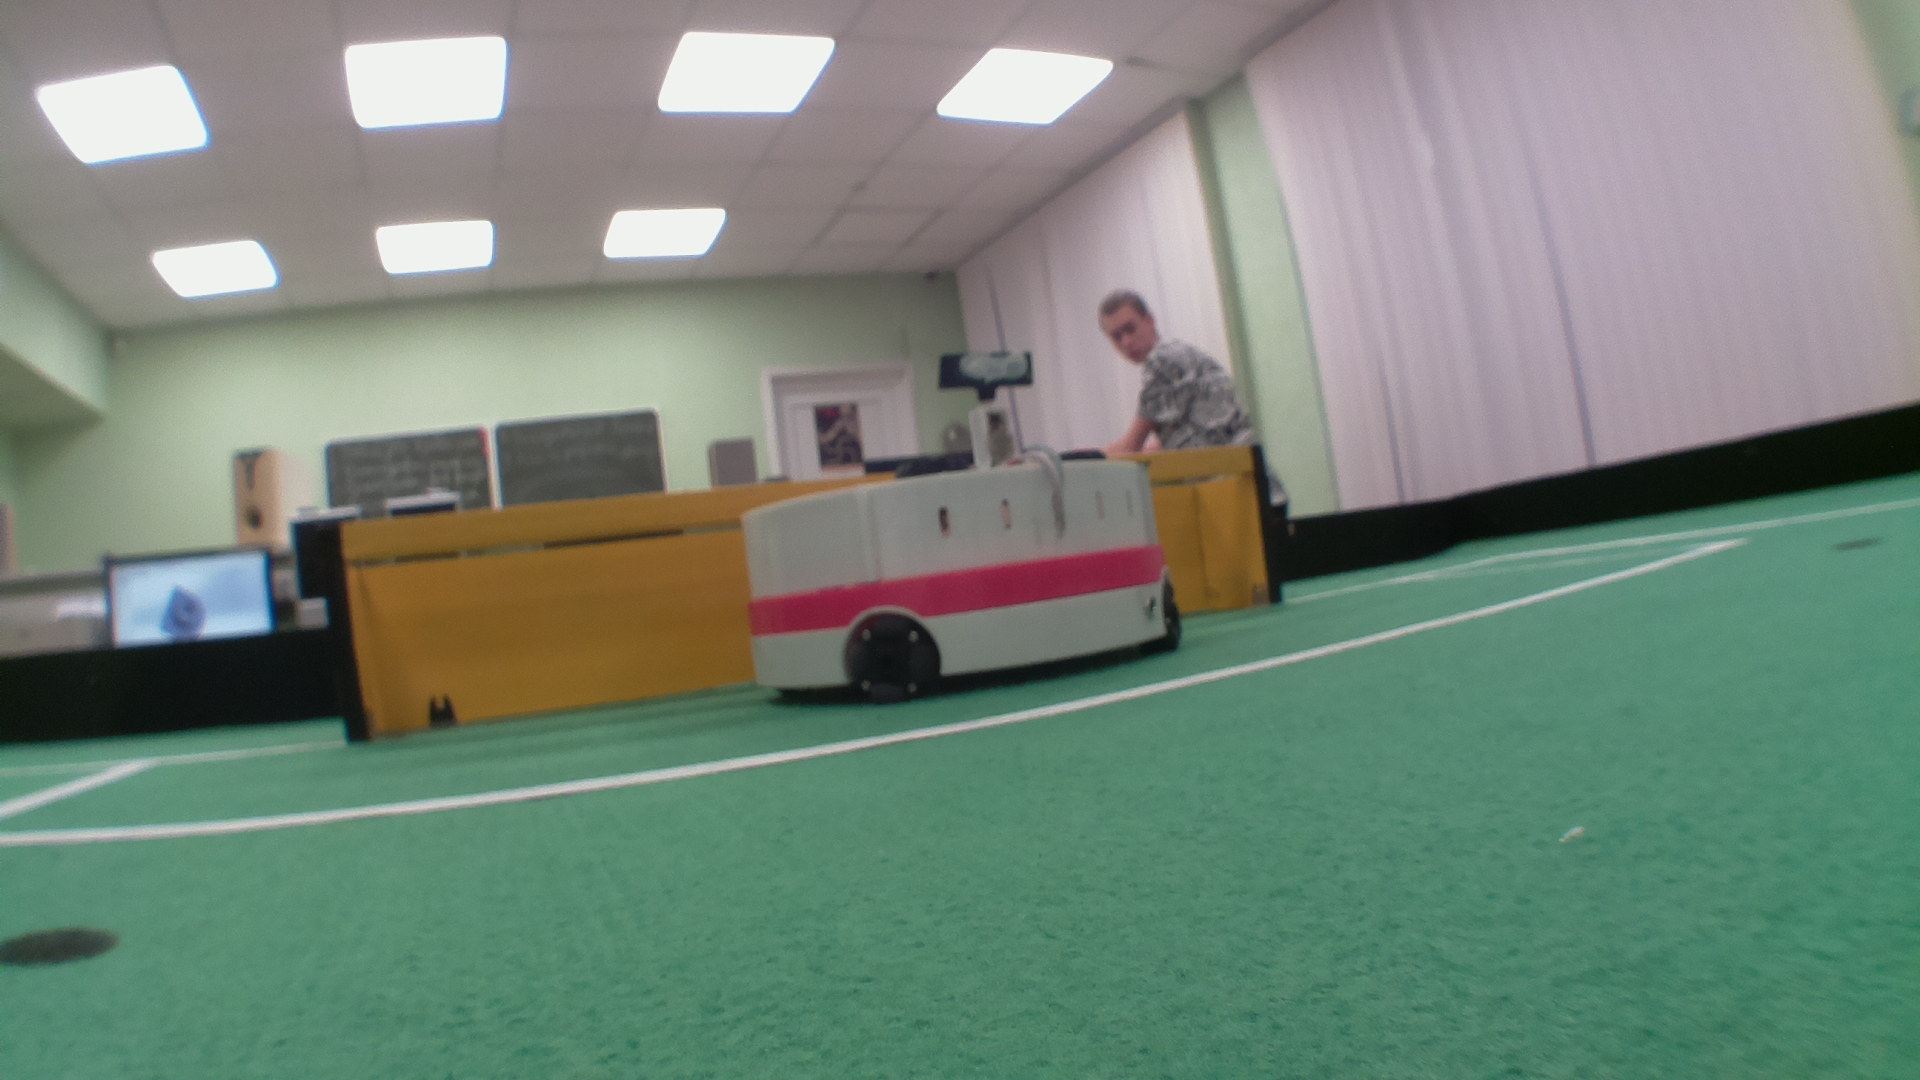YellowGoal: (343, 456, 1278, 716)
